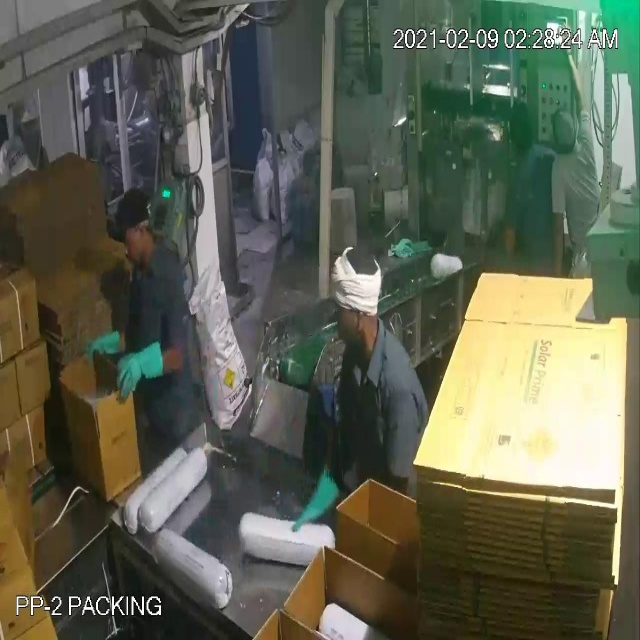Guantes: (298, 462, 342, 532), (112, 348, 167, 397), (84, 325, 125, 369)
Sin_guantes: (547, 205, 572, 280), (563, 36, 586, 117)
